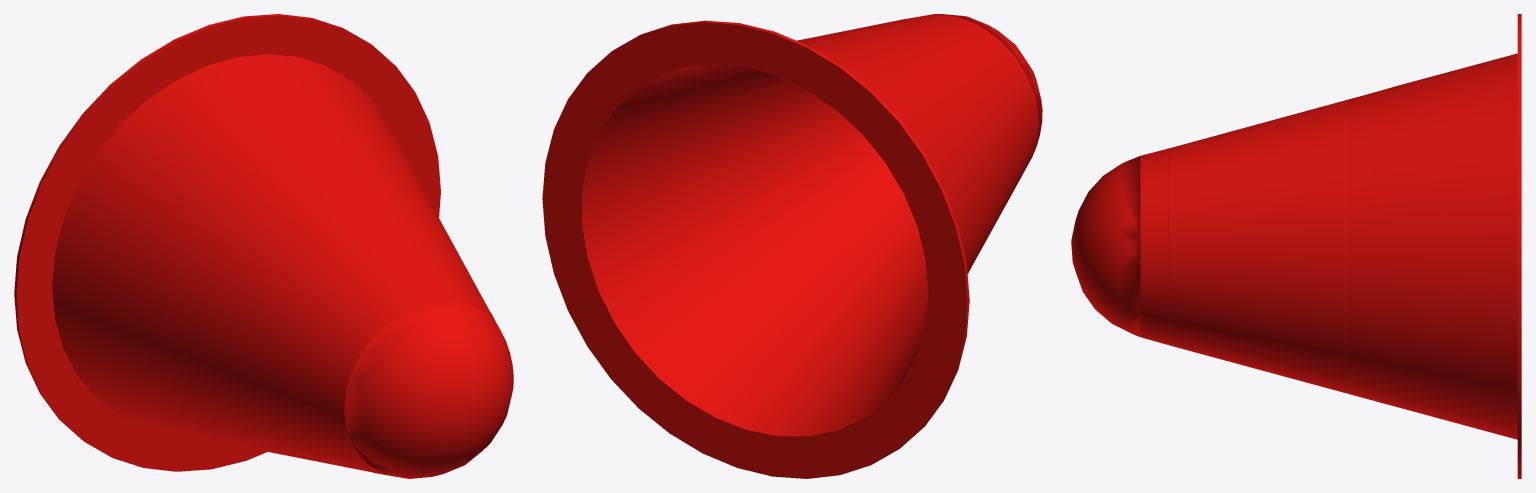
The model's file is red_cone.obj.
The picture shows the model from 3 angles, left to right: view 1: azimuth 30°, elevation 25°; view 2: azimuth 150°, elevation 25°; view 3: azimuth 270°, elevation 25°; orthographic projection. The views are drawn at different scales.
Parts seen in each view (by area): view 1: Body2.001; view 2: Body2.001; view 3: Body2.001.
Part boxes in pixels (bbox=[...]): Body2.001: bbox=[14, 14, 513, 478]; Body2.001: bbox=[542, 14, 1042, 478]; Body2.001: bbox=[1071, 14, 1521, 478].
Size of the model in its own units: 0.0803 by 0.08 by 0.0778.
